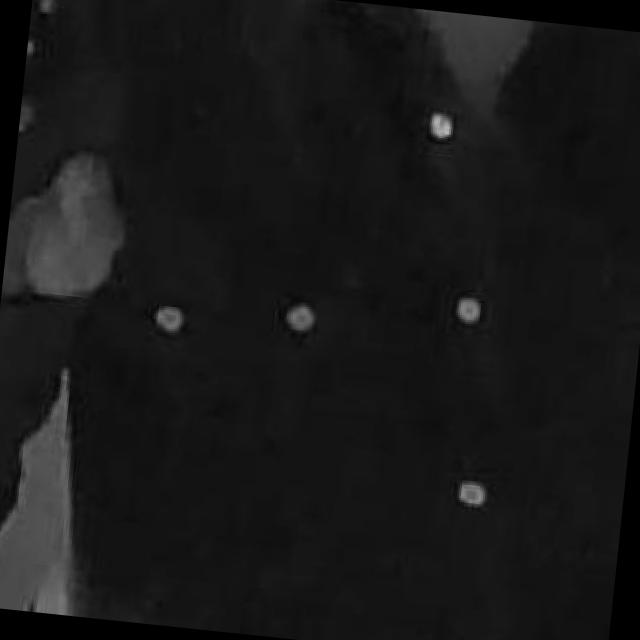Guns: (1, 0, 214, 313)
